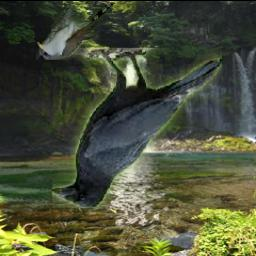Crow: (53, 49, 223, 209)
Cuckoo: (36, 2, 113, 60)
